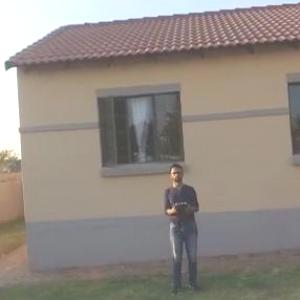follow: (163, 156, 208, 298)
